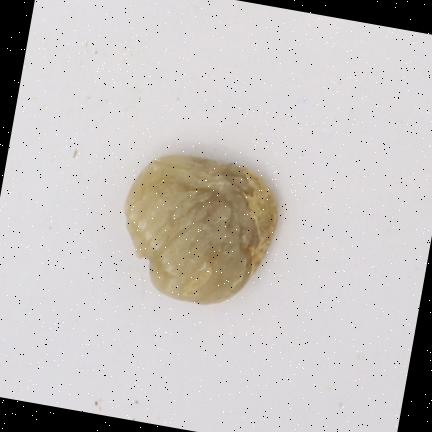immature: (124, 155, 278, 304)
